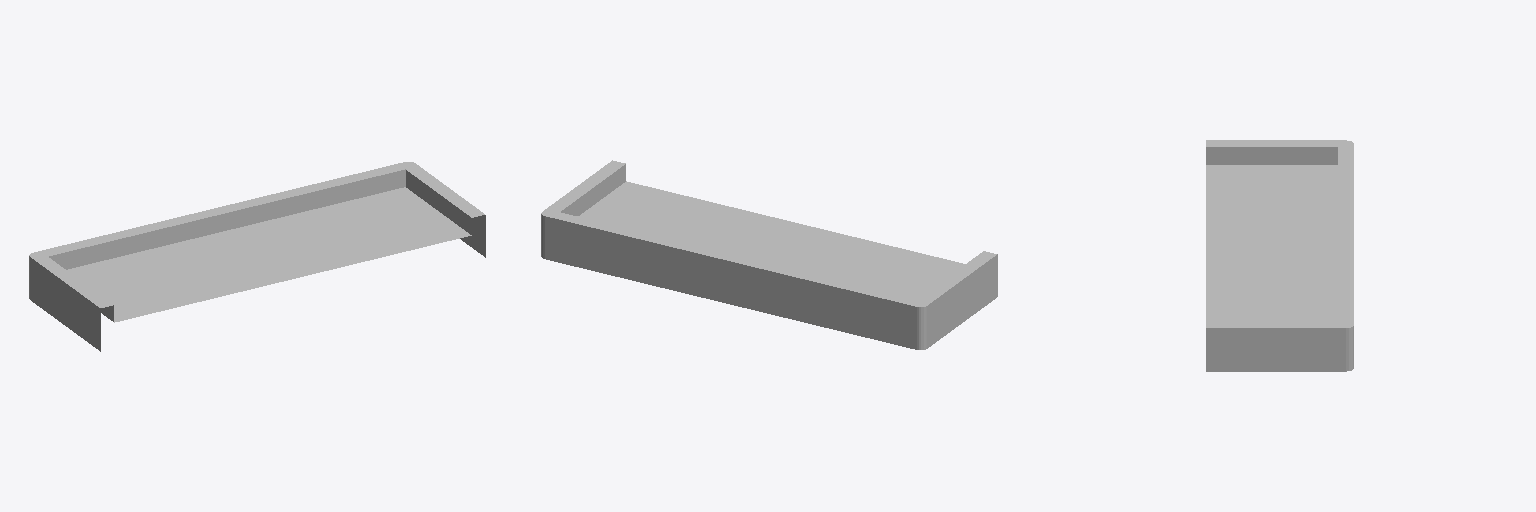
Rendered from blankEnd_A_1x3.obj.
The picture shows the model from 3 angles: view 1: azimuth 30°, elevation 25°; view 2: azimuth 150°, elevation 25°; view 3: azimuth 270°, elevation 25°; orthographic projection.
Parts seen in each view (by area): view 1: modelPanel2ViewSelectedSet blankEnd_A_1x3; view 2: modelPanel2ViewSelectedSet blankEnd_A_1x3; view 3: modelPanel2ViewSelectedSet blankEnd_A_1x3.
Boxes of the visible parts, x1,y1,x2,y2 form: modelPanel2ViewSelectedSet blankEnd_A_1x3: [29, 162, 485, 351]; modelPanel2ViewSelectedSet blankEnd_A_1x3: [541, 160, 997, 349]; modelPanel2ViewSelectedSet blankEnd_A_1x3: [1206, 140, 1353, 371].
Size of the model in its own units: 3 by 0.3212 by 1.